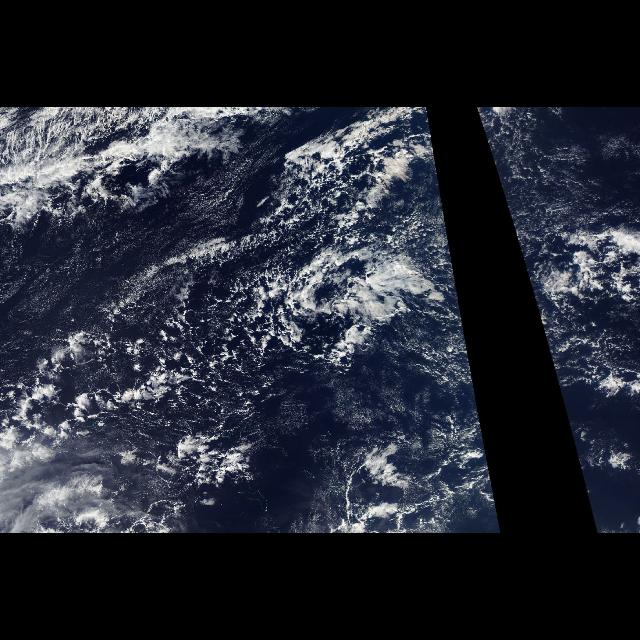Gravel: (9, 109, 483, 419), (478, 110, 618, 412)
Sugar: (280, 158, 482, 430), (492, 132, 634, 430), (3, 244, 138, 326), (182, 164, 260, 223)
